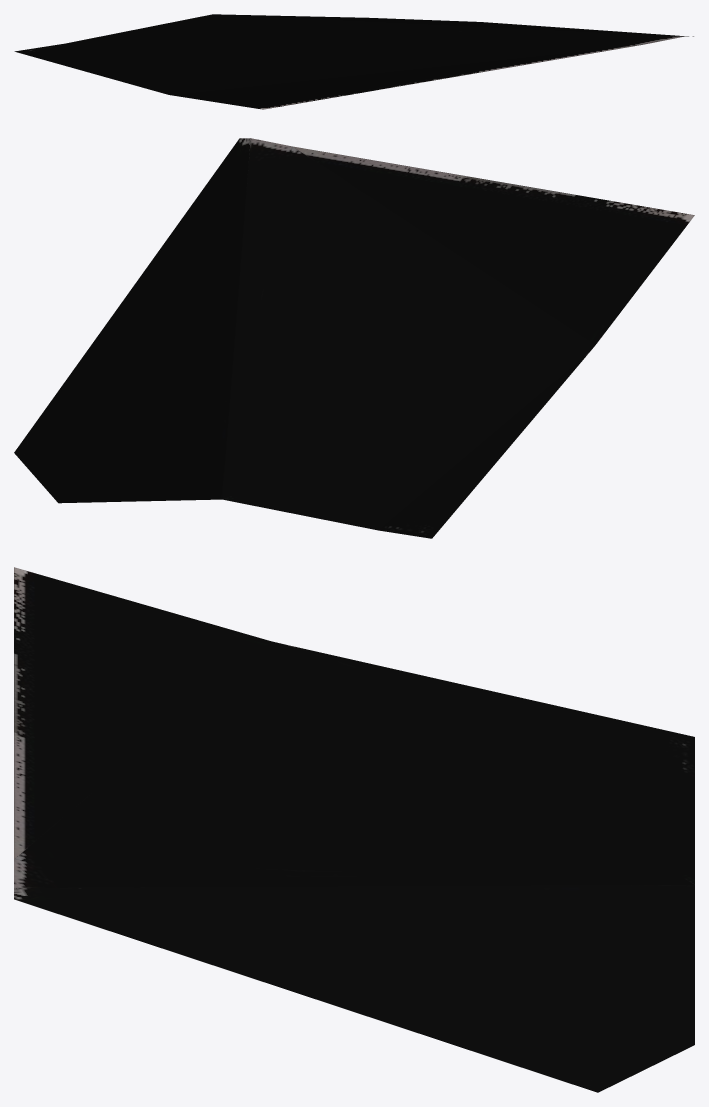
3 views of the same model, one above another, from view 1: azimuth 30°, elevation 25°; view 2: azimuth 150°, elevation 25°; view 3: azimuth 270°, elevation 25° (orthographic). The views are drawn at different scales.
Bounding box in the file's own units: 1.67 × 0.656 × 1.67.
2 materials, 2 textured.
